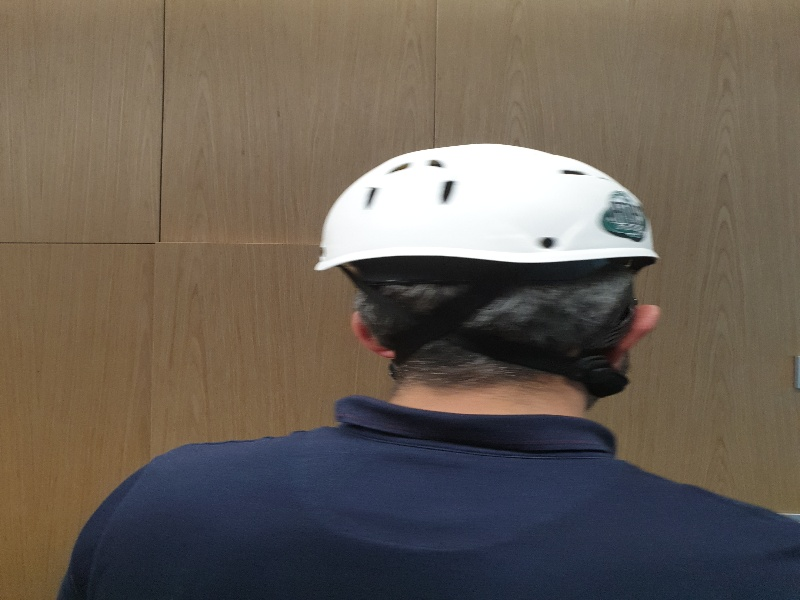Baret: (315, 146, 660, 278)
